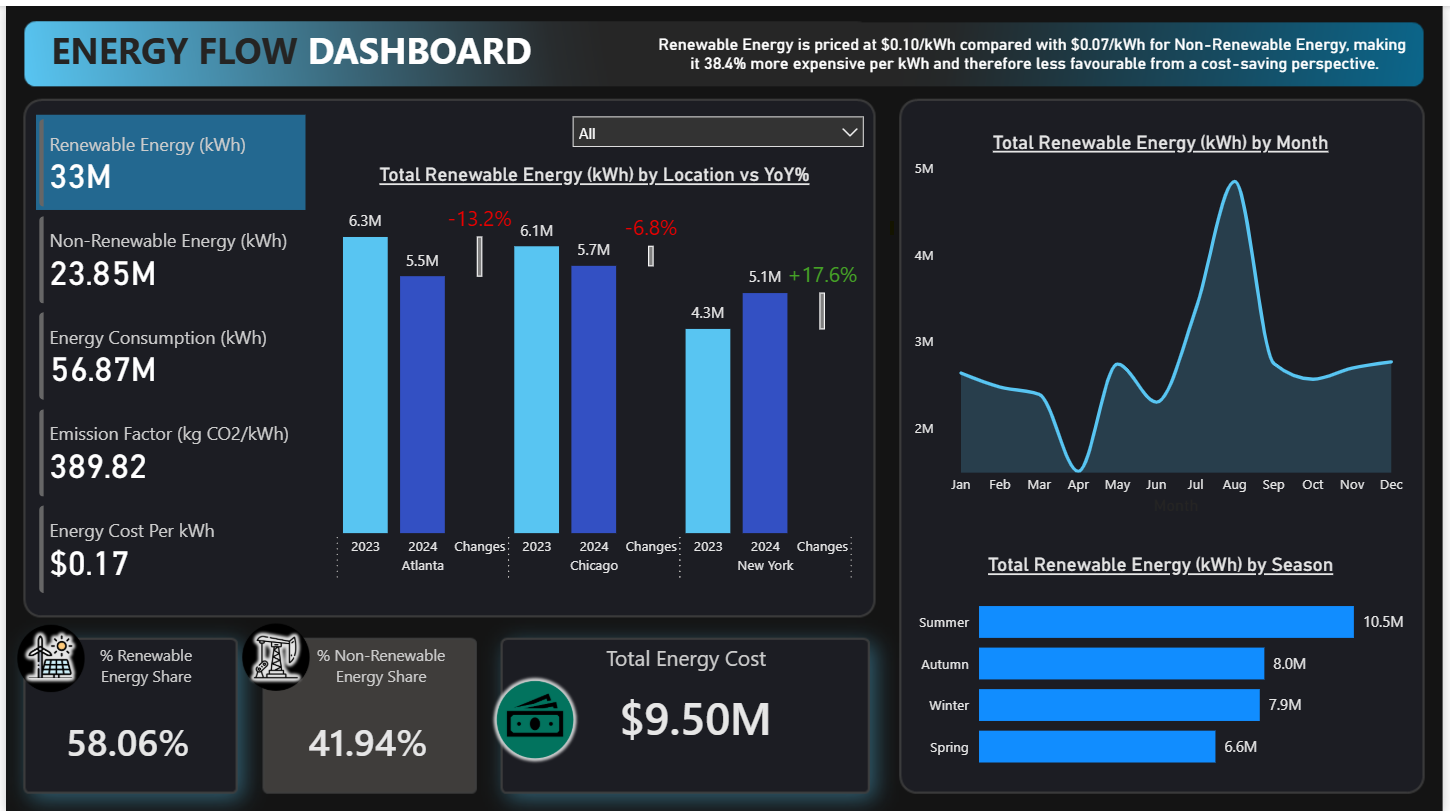

The dashboard page shown, as its layout file describes it:
{"tool":"powerbi","page":{"name":"Page 1","canvas":[1280,720],"ordinal":0},"visuals":[{"type":"shape","box":[26.9,97,240,85],"z":0},{"type":"shape","box":[27,184,240.5,84.7],"z":1000},{"type":"shape","box":[27,270.8,240.5,84.7],"z":2000},{"type":"shape","box":[27,357.5,240.5,84.7],"z":3000},{"type":"shape","box":[27,444.2,240.5,84.7],"z":4000},{"type":"cardVisual","fields":{"Data":["DAX Table.Renewable Energy (kwh)","DAX Table.Total Non-Renewable Energy (kwh)","DAX Table.Total Energy Consumption (kwh)","DAX Table.Emission Factor (kg CO2/kWh)","DAX Table.Energy Cost Per kWh"]},"box":[17.2,88.3,266.3,449.1],"z":5000},{"type":"clusteredColumnChart","fields":{"Category":["Data.Location","Year Table.Year"],"Y":["Year Table.YoY Change"]},"box":[274.8,139.9,498.2,380.4],"z":6000},{"type":"slicer","fields":{"Values":["Switchable Measures.Switchable Measures"]},"box":[494.5,88.3,279.8,46.6],"z":7000},{"type":"cardVisual","fields":{"Data":["DAX Table.% Renewable Energy Share"]},"box":[27.3,612.7,164.5,82.7],"z":8000},{"type":"textbox","box":[57.7,563.2,133.7,49.1],"z":9000},{"type":"textbox","box":[267.5,563.2,133.7,49.1],"z":10000},{"type":"textbox","box":[484.7,563.2,242.9,45.4],"z":11000},{"type":"cardVisual","fields":{"Data":["DAX Table.Energy Cost (USD)"]},"box":[492,591.4,244.2,82.2],"z":12000},{"type":"cardVisual","fields":{"Data":["DAX Table.% Non-Renewable Energy Share"]},"box":[240.9,612.7,164.5,82.7],"z":13000},{"type":"image","box":[10,550.9,60,60],"z":14000},{"type":"image","box":[210,550,60,60],"z":15000},{"type":"image","box":[430.9,595,80.9,80],"z":16000},{"type":"lineChart","fields":{"Category":["Calendar.Month"],"Y":["Switchable Measures.Group Measures"]},"box":[803.7,111.7,449.1,347.2],"z":17000},{"type":"barChart","fields":{"Category":["Calendar.Season"],"Y":["Switchable Measures.Group Measures"]},"box":[803.7,487.1,449.1,207.4],"z":18000},{"type":"textbox","box":[17.2,12.3,474.8,66.3],"z":19000},{"type":"card","fields":{"Values":["DAX Table.Energy Cost Summary"]},"box":[575.5,12.3,677.3,62.6],"z":21000}]}

Visuals, with their boxes in screenshot pixels (x1, y1, x2, y2), scaled from the page's 1280x720 canvas onto the 1450x811 screenshot:
shape: l=30, t=109, r=302, b=205
shape: l=31, t=207, r=303, b=303
shape: l=31, t=305, r=303, b=400
shape: l=31, t=403, r=303, b=498
shape: l=31, t=500, r=303, b=596
cardVisual - DAX Table.Renewable Energy (kwh) x DAX Table.Total Non-Renewable Energy (kwh): l=19, t=99, r=321, b=605
clusteredColumnChart - Data.Location x Year Table.Year: l=311, t=158, r=876, b=586
slicer - Switchable Measures.Switchable Measures: l=560, t=99, r=877, b=152
cardVisual - DAX Table.% Renewable Energy Share: l=31, t=690, r=217, b=783
textbox: l=65, t=634, r=217, b=690
textbox: l=303, t=634, r=454, b=690
textbox: l=549, t=634, r=824, b=686
cardVisual - DAX Table.Energy Cost (USD): l=557, t=666, r=834, b=759
cardVisual - DAX Table.% Non-Renewable Energy Share: l=273, t=690, r=459, b=783
image: l=11, t=621, r=79, b=688
image: l=238, t=620, r=306, b=687
image: l=488, t=670, r=580, b=760
lineChart - Calendar.Month x Switchable Measures.Group Measures: l=910, t=126, r=1419, b=517
barChart - Calendar.Season x Switchable Measures.Group Measures: l=910, t=549, r=1419, b=782
textbox: l=19, t=14, r=557, b=89
card - DAX Table.Energy Cost Summary: l=652, t=14, r=1419, b=84
